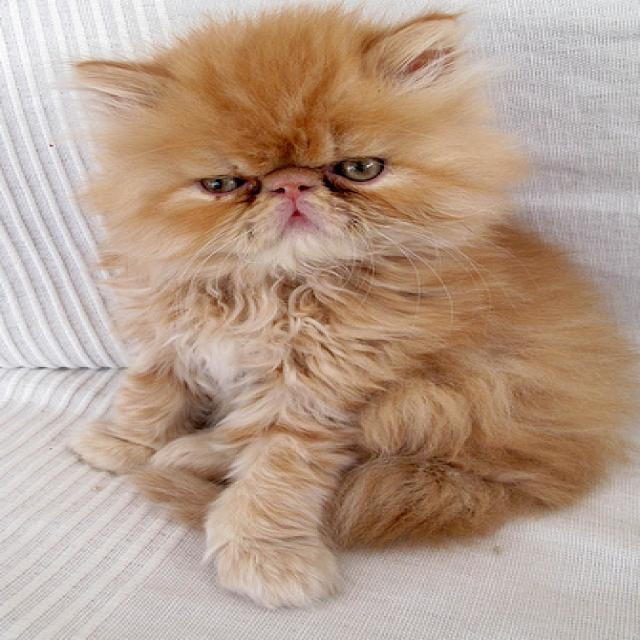Persian: (64, 4, 637, 618)
